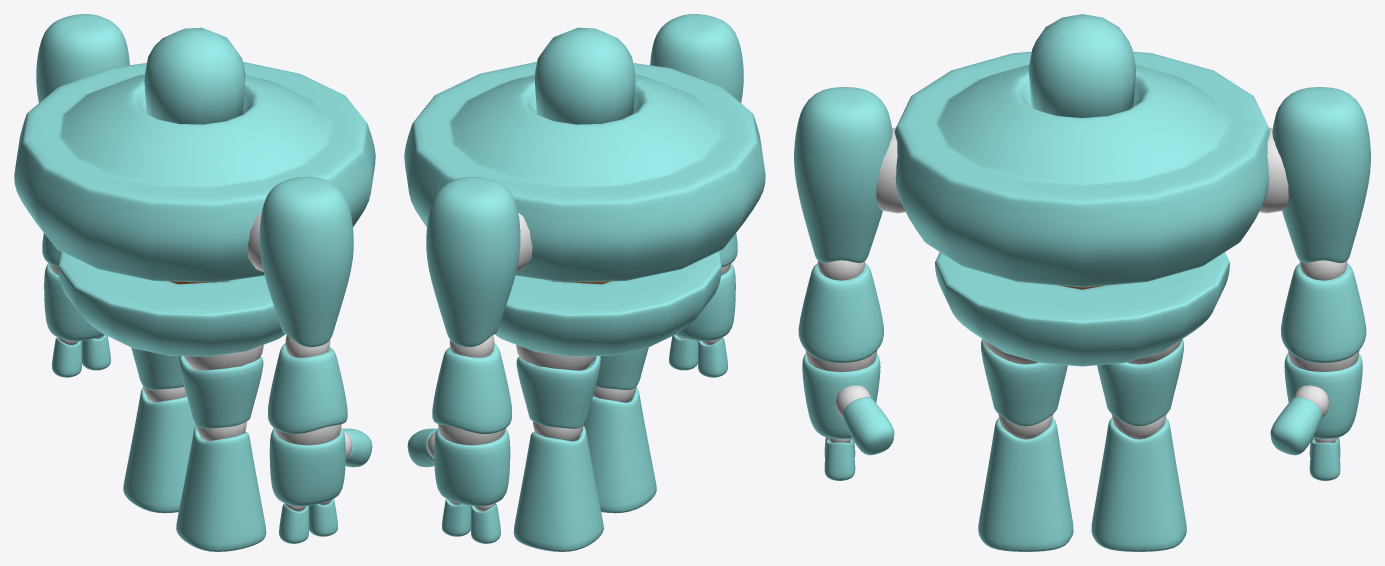
The model's file is GolemRigged.fbx.
3 renders of one model, left to right at view 1: azimuth 30°, elevation 25°; view 2: azimuth 150°, elevation 25°; view 3: azimuth 270°, elevation 25°, orthographic. The views are drawn at different scales.
Parts seen in each view (by area): view 1: Golem; view 2: Golem; view 3: Golem.
Part boxes in pixels (left/top/right/bottom): Golem: left=14, top=14, right=375, bottom=551; Golem: left=404, top=14, right=765, bottom=551; Golem: left=794, top=14, right=1370, bottom=551.
Bounding box in the file's own units: 154 × 225 × 228.
